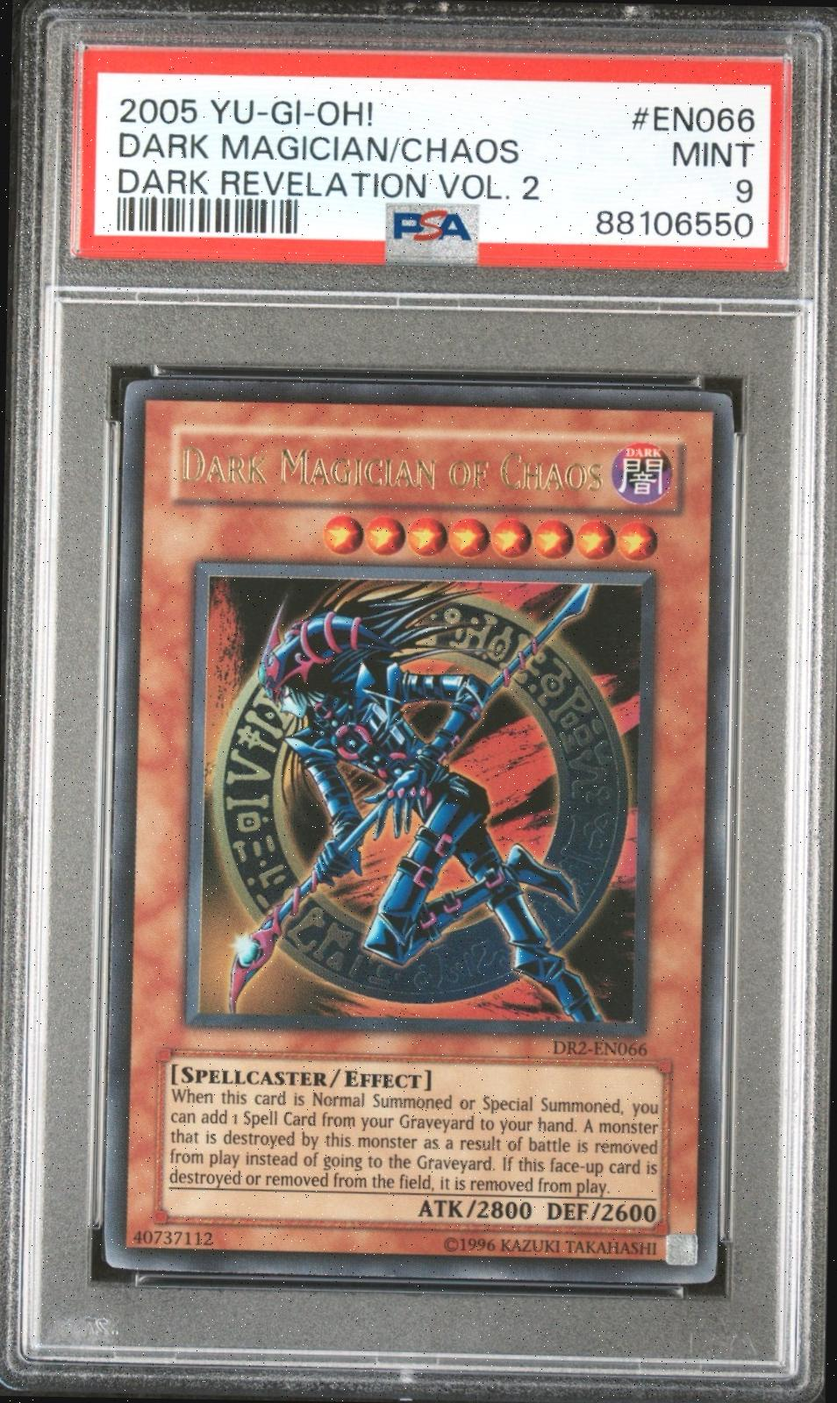card-2UtV: (104, 379, 733, 1284)
